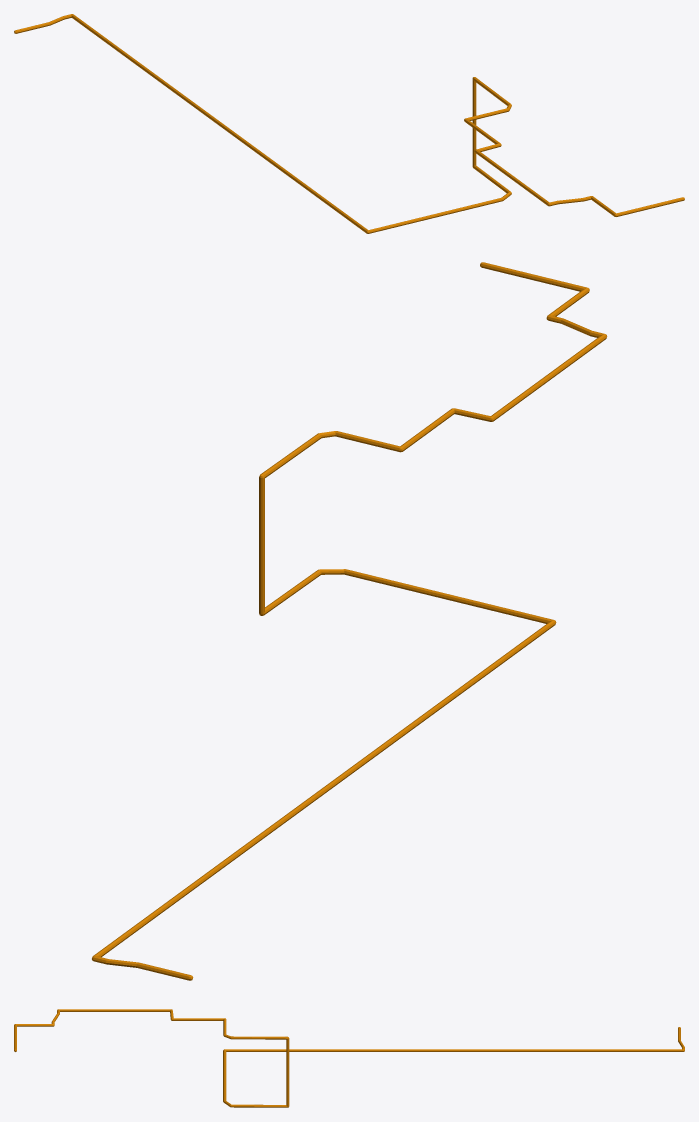
The picture shows the model from 3 angles, top to bottom: view 1: azimuth 30°, elevation 25°; view 2: azimuth 150°, elevation 25°; view 3: azimuth 270°, elevation 25°; orthographic projection. The views are drawn at different scales.
Size of the model in its own units: 1446 by 520 by 4460.
